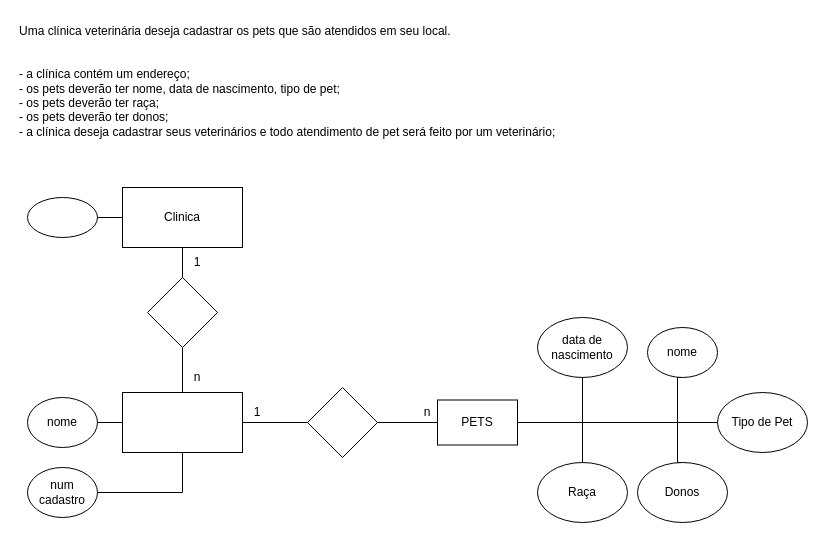
This 825x540 diagram has some shape labels left out. The box of each missing label's shape, as (x1, y1, x2, y2) in pixels:
atende: (306, 386, 378, 458)
cadastra: (146, 276, 218, 348)
endereço: (26, 196, 98, 238)
Veterinarios: (122, 392, 242, 452)
